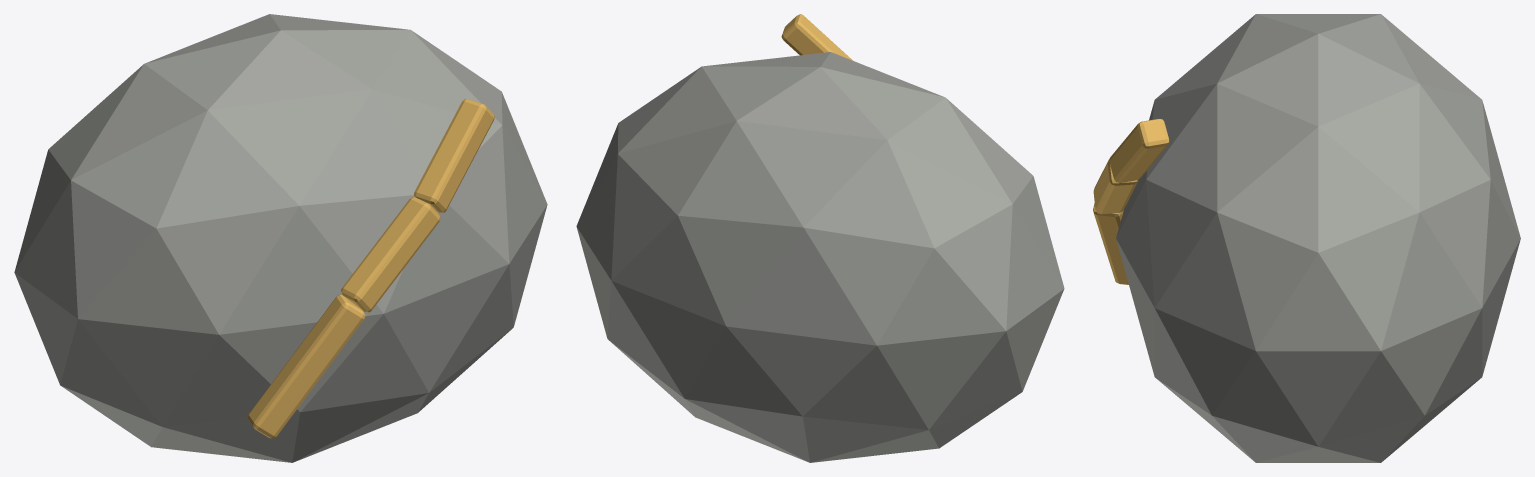
Rendered from economy_source_gold_ore_v01.glb.
The picture shows the model from 3 angles, left to right: view 1: azimuth 30°, elevation 25°; view 2: azimuth 150°, elevation 25°; view 3: azimuth 270°, elevation 25°; orthographic projection. The views are drawn at different scales.
Parts seen in each view (by area): view 1: GEO_GoldHost, GEO_GoldSeam_00, GEO_GoldSeam_01, GEO_GoldSeam_02; view 2: GEO_GoldHost, GEO_GoldSeam_02; view 3: GEO_GoldHost, GEO_GoldSeam_02, GEO_GoldSeam_01, GEO_GoldSeam_00.
Boxes of the visible parts, x1,y1,x2,y2 form: GEO_GoldHost: (14,14,547,462); GEO_GoldSeam_00: (247,294,365,438); GEO_GoldSeam_01: (341,197,440,312); GEO_GoldSeam_02: (414,99,494,212); GEO_GoldHost: (576,52,1064,462); GEO_GoldSeam_02: (781,14,852,60); GEO_GoldHost: (1116,14,1520,462); GEO_GoldSeam_02: (1109,119,1169,182); GEO_GoldSeam_01: (1093,159,1137,214); GEO_GoldSeam_00: (1093,203,1128,284).
Bounding box in the file's own units: 1.37 × 1.16 × 1.1.
